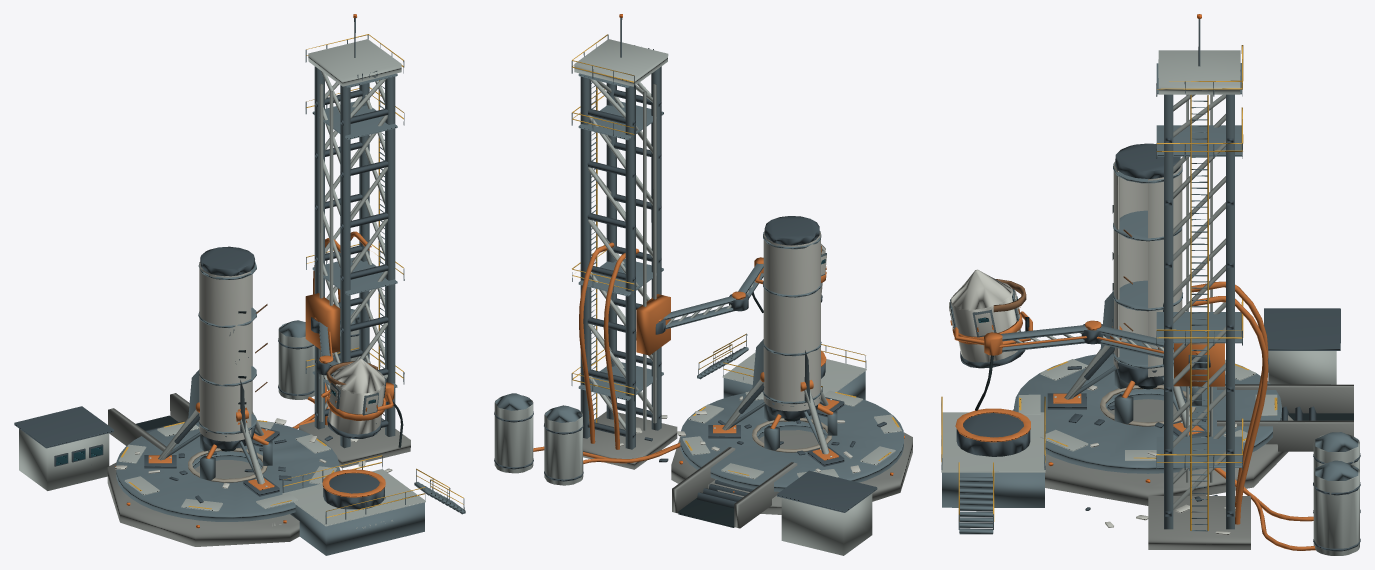
Rendered from hugin_launchpad_d2_lod1.glb.
3 views of the same model, side by side, from view 1: azimuth 30°, elevation 25°; view 2: azimuth 150°, elevation 25°; view 3: azimuth 270°, elevation 25° (orthographic). The views are drawn at different scales.
Visible parts, largest first — view 1: HUGIN_LAUNCHPAD_LOD1_STATIC_GEOMETRY; view 2: HUGIN_LAUNCHPAD_LOD1_STATIC_GEOMETRY; view 3: HUGIN_LAUNCHPAD_LOD1_STATIC_GEOMETRY.
Boxes of the visible parts, x1=… form: HUGIN_LAUNCHPAD_LOD1_STATIC_GEOMETRY: x1=14, y1=14, x2=465, y2=555; HUGIN_LAUNCHPAD_LOD1_STATIC_GEOMETRY: x1=494, y1=14, x2=912, y2=555; HUGIN_LAUNCHPAD_LOD1_STATIC_GEOMETRY: x1=941, y1=14, x2=1360, y2=555.
Size of the model in its own units: 28.13 by 33.1 by 24.43.
